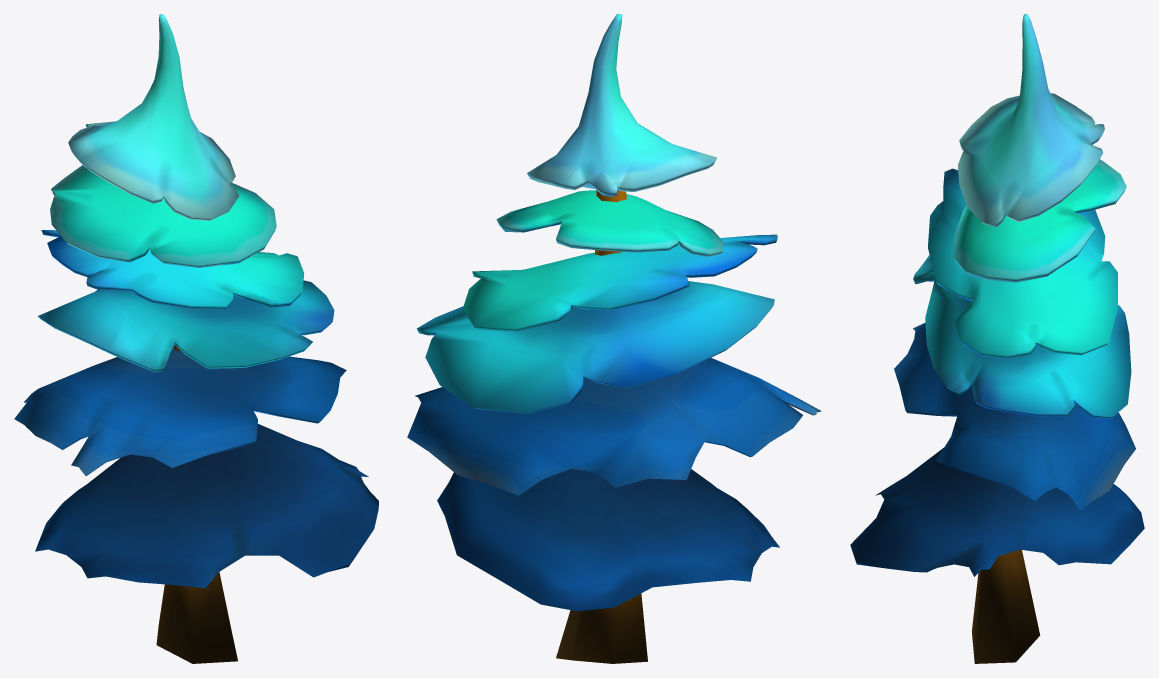
The model's file is TreeStyle2Blue_02.fbx.
3 renders of one model, left to right at view 1: azimuth 30°, elevation 25°; view 2: azimuth 150°, elevation 25°; view 3: azimuth 270°, elevation 25°, orthographic. The views are drawn at different scales.
Visible parts, largest first — view 1: TreeStyle2_02; view 2: TreeStyle2_02; view 3: TreeStyle2_02.
Part boxes in pixels (bbox=[...]): TreeStyle2_02: bbox=[14, 14, 378, 663]; TreeStyle2_02: bbox=[407, 14, 821, 663]; TreeStyle2_02: bbox=[850, 14, 1144, 663].
Bounding box in the file's own units: 625 × 1140 × 487.
